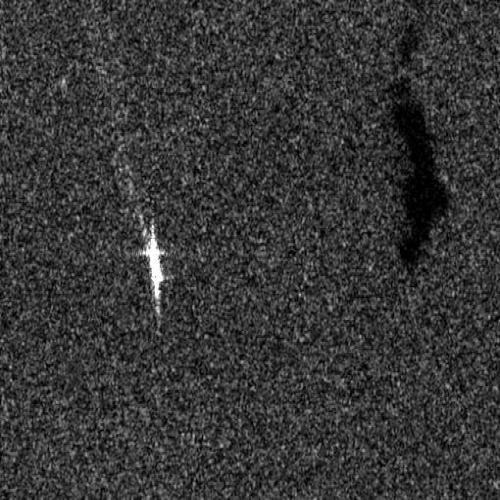ship: (146, 232, 163, 301)
